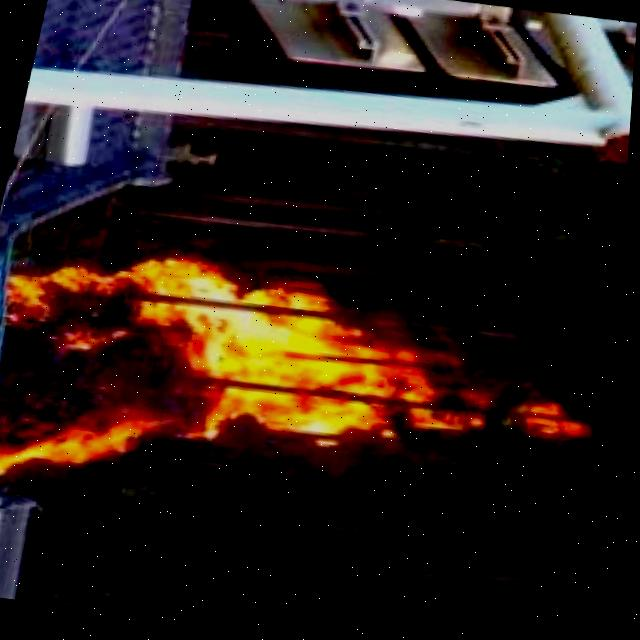Fire: (0, 237, 513, 540)
